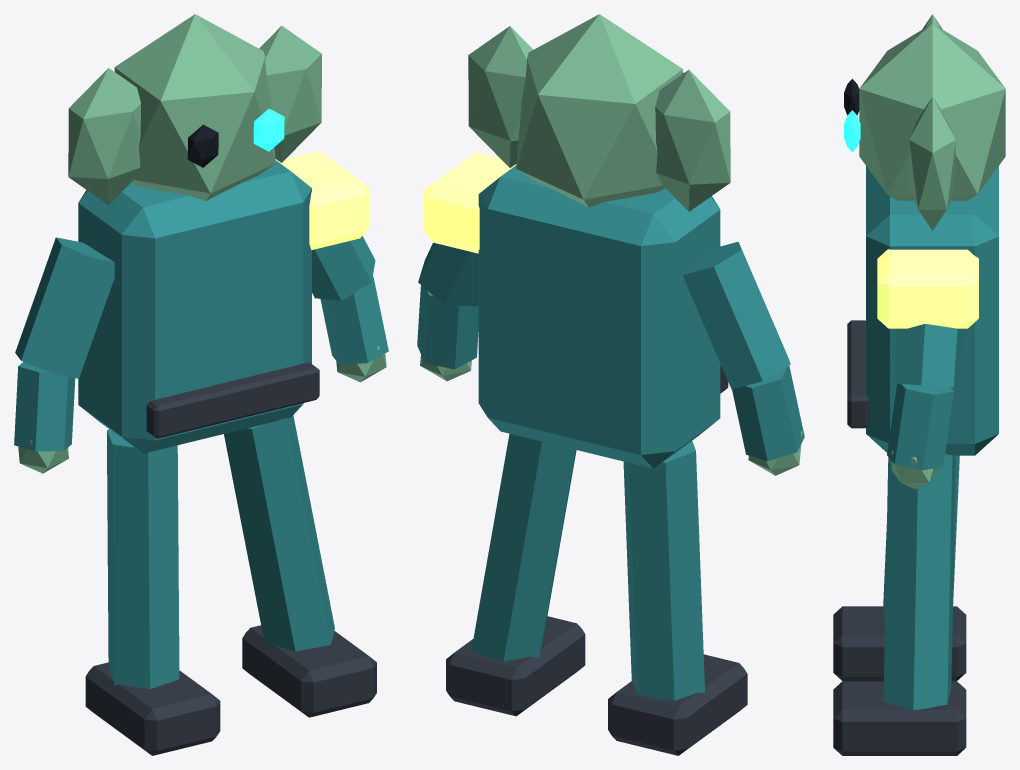
Rendered from npcs_009_seed100.glb.
3 renders of one model, left to right at view 1: azimuth 30°, elevation 25°; view 2: azimuth 150°, elevation 25°; view 3: azimuth 270°, elevation 25°, orthographic. The views are drawn at different scales.
Visible parts, largest first — view 1: npcs_009_seed100; view 2: npcs_009_seed100; view 3: npcs_009_seed100.
Part boxes in pixels (x1,y1,x2,y2): npcs_009_seed100: [14, 14, 388, 755]; npcs_009_seed100: [417, 14, 804, 755]; npcs_009_seed100: [833, 14, 1005, 755].
Bounding box in the file's own units: 0.949 × 1.69 × 0.3944.
